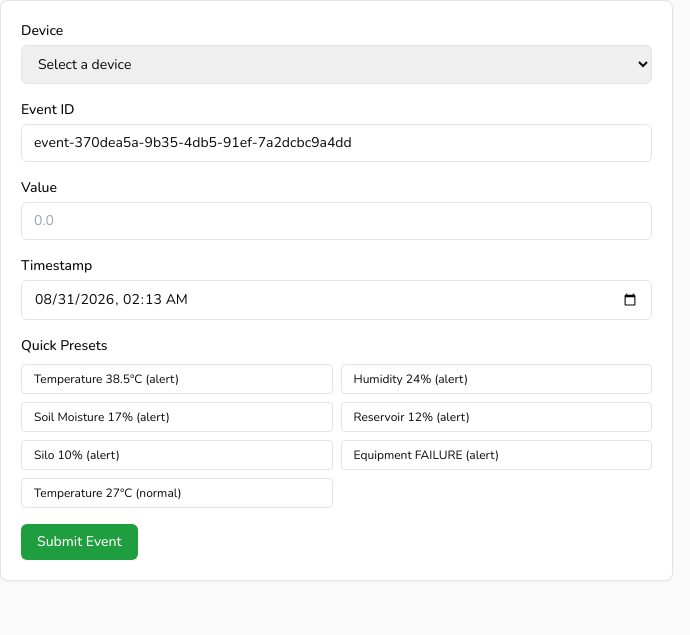
Test: SimulatorForm › shows derived type and unit when a device is selected
This screenshot has width=690, height=635.
Select "Temp Sensor (sensor-temp-01)" in the dropdown labelled "Device". click: (336, 64)
box: [21,45,652,84]
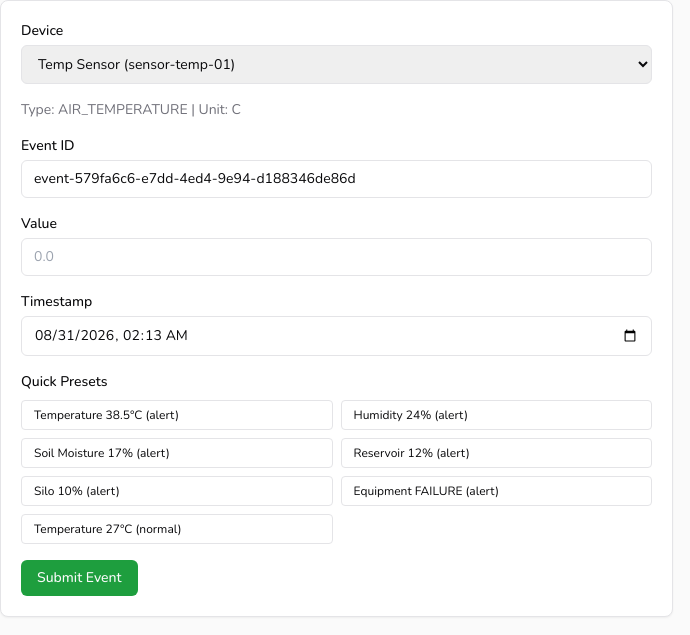
Result: the text "Type: AIR_TEMPERATURE | Unit: C" is shown at [21,100,241,119]
Select "Irrigation Pump (irrigation-pump-01)" in the dropdown labelled "Device". click: (336, 64)
box: [21,45,652,84]
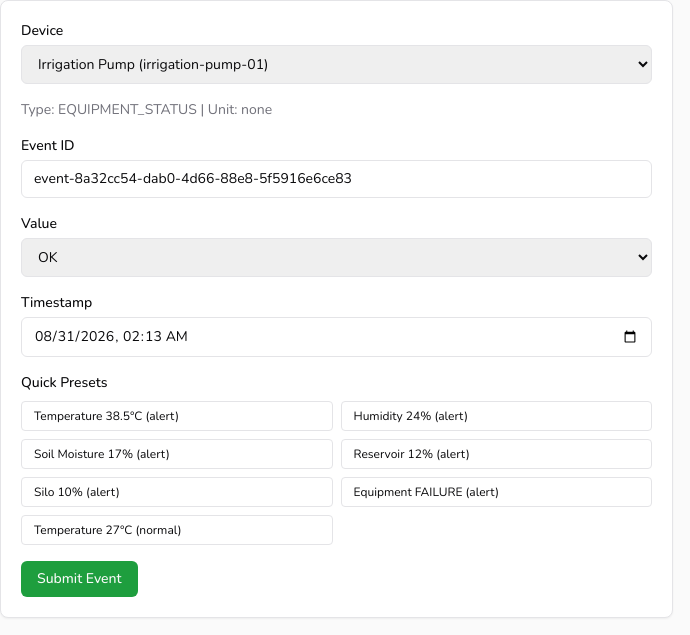
Result: the text "Type: EQUIPMENT_STATUS | Unit: none" is shown at [21,100,272,119]
